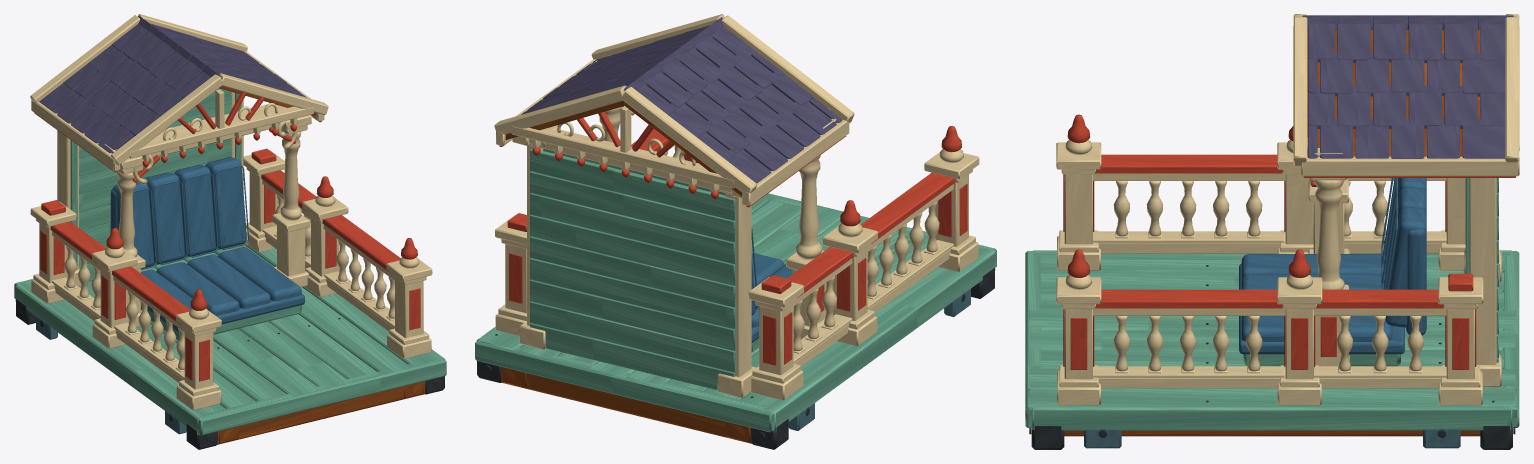
The model's file is painted_porch.glb.
3 renders of one model, left to right at view 1: azimuth 30°, elevation 25°; view 2: azimuth 150°, elevation 25°; view 3: azimuth 270°, elevation 25°, orthographic. The views are drawn at different scales.
Parts seen in each view (by area): view 1: painted_porch_material_batches; view 2: painted_porch_material_batches; view 3: painted_porch_material_batches.
Boxes of the visible parts, box(x1,y1,x2,y2) form: painted_porch_material_batches: box(14, 14, 446, 449); painted_porch_material_batches: box(475, 14, 996, 449); painted_porch_material_batches: box(1025, 14, 1519, 449).
Size of the model in its own units: 2.2 by 2.3 by 2.89.
8 materials, 8 textured.
